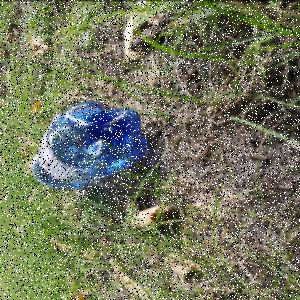Plastic-bottle: (32, 99, 151, 193)
